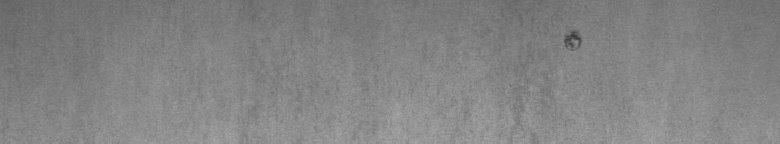fi: (560, 24, 587, 53)
